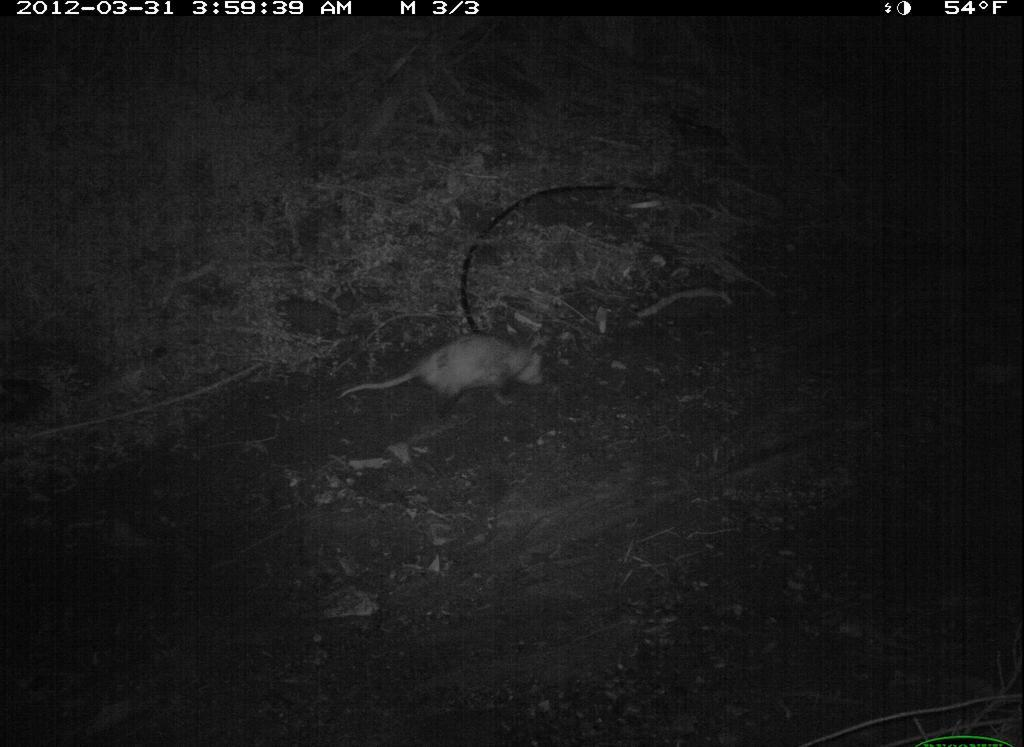opossum: (331, 326, 588, 422)
